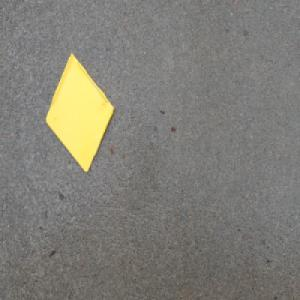PlasticPart: (44, 52, 115, 174)
